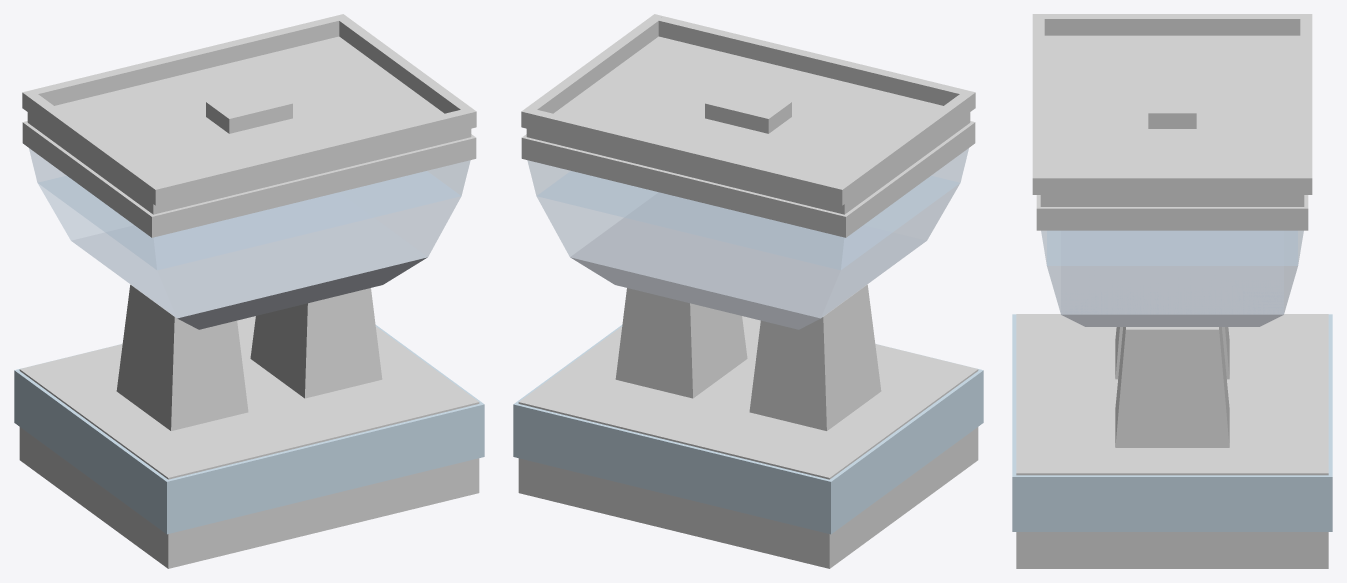
File: peak-tower.glb
3 renders of one model, left to right at view 1: azimuth 30°, elevation 25°; view 2: azimuth 150°, elevation 25°; view 3: azimuth 270°, elevation 25°, orthographic. The views are drawn at different scales.
Visible parts, largest first — view 1: peak base, peak terrace, peak throat, peak base glazing, peak sweep, peak band, peak leg, peak fascia, peak leg.001, peak parapet.003, peak parapet.002, peak parapet (+2 smaller); view 2: peak base, peak terrace, peak throat, peak base glazing, peak sweep, peak band, peak leg, peak fascia, peak leg.001, peak parapet.002, peak parapet.003, peak parapet (+2 smaller); view 3: peak base, peak terrace, peak throat, peak base glazing, peak leg.001, peak sweep, peak band, peak fascia, peak parapet.001, peak parapet, peak plant, peak parapet.002 (+2 smaller).
Boxes of the visible parts, <box> form: peak base: <box>19,316,479,568</box>; peak terrace: <box>27,36,471,214</box>; peak throat: <box>71,192,427,329</box>; peak base glazing: <box>14,325,484,534</box>; peak sweep: <box>38,171,461,317</box>; peak band: <box>29,148,470,269</box>; peak leg: <box>116,284,248,430</box>; peak fascia: <box>22,121,476,237</box>; peak leg.001: <box>250,288,382,398</box>; peak parapet.003: <box>150,110,476,205</box>; peak parapet.002: <box>22,14,346,109</box>; peak parapet: <box>24,92,162,203</box>; peak base: <box>518,316,978,568</box>; peak terrace: <box>526,36,970,214</box>; peak throat: <box>570,192,926,329</box>; peak base glazing: <box>513,325,983,534</box>; peak sweep: <box>536,171,959,317</box>; peak band: <box>527,148,968,269</box>; peak leg: <box>749,284,881,430</box>; peak fascia: <box>521,121,975,237</box>; peak leg.001: <box>615,288,747,398</box>; peak parapet.002: <box>521,109,848,205</box>; peak parapet.003: <box>649,14,975,109</box>; peak parapet: <box>835,92,973,201</box>; peak base: <box>1016,314,1328,568</box>; peak terrace: <box>1040,35,1304,206</box>; peak throat: <box>1061,231,1283,326</box>; peak base glazing: <box>1012,314,1332,531</box>; peak leg.001: <box>1115,327,1229,447</box>; peak sweep: <box>1047,231,1297,314</box>; peak band: <box>1041,231,1303,265</box>; peak fascia: <box>1036,195,1308,230</box>; peak parapet.001: <box>1036,173,1308,194</box>; peak parapet: <box>1036,14,1308,35</box>; peak plant: <box>1148,81,1196,128</box>; peak parapet.002: <box>1300,14,1312,194</box>.
Size of the model in its own units: 2.91 by 3.21 by 2.37.
